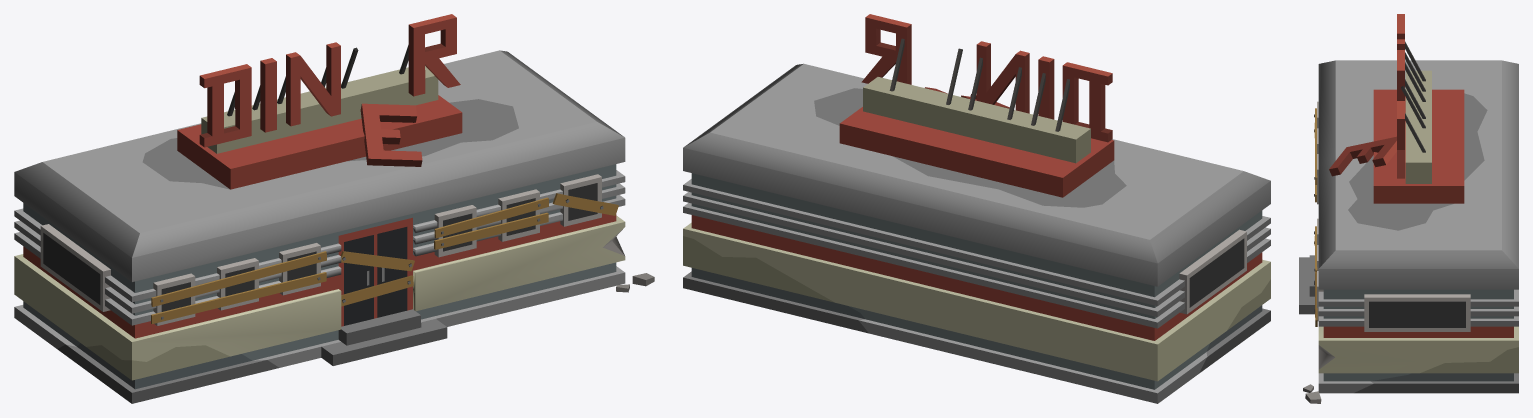
The model's file is SA_Bld_Diner_Damaged_01.gltf.
The picture shows the model from 3 angles, left to right: view 1: azimuth 30°, elevation 25°; view 2: azimuth 150°, elevation 25°; view 3: azimuth 270°, elevation 25°; orthographic projection. The views are drawn at different scales.
Parts seen in each view (by area): view 1: SA_Bld_Diner_Damaged_01; view 2: SA_Bld_Diner_Damaged_01; view 3: SA_Bld_Diner_Damaged_01.
Boxes of the visible parts, <box> form: SA_Bld_Diner_Damaged_01: <box>14,14,654,403</box>; SA_Bld_Diner_Damaged_01: <box>683,14,1270,403</box>; SA_Bld_Diner_Damaged_01: <box>1299,14,1518,403</box>.
Bounding box in the file's own units: 24.32 × 11.8 × 10.46.
1 material, 1 textured.
